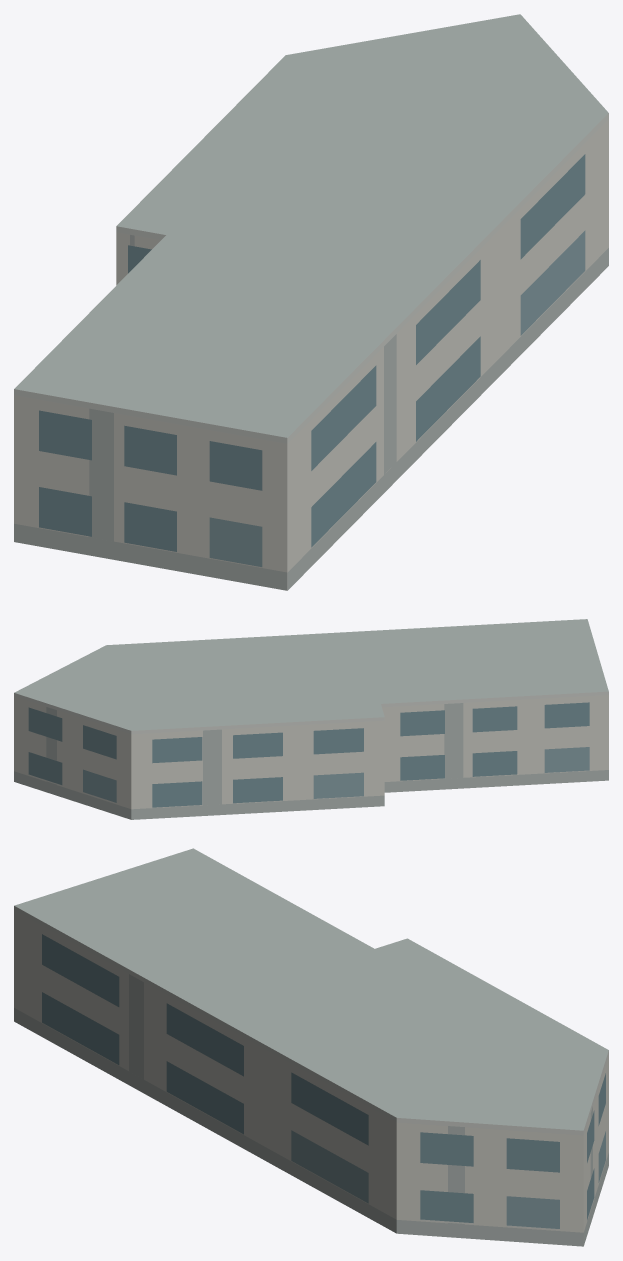
File: survey-upis-33045031.glb
3 views of the same model, one above another, from view 1: azimuth 30°, elevation 25°; view 2: azimuth 150°, elevation 25°; view 3: azimuth 270°, elevation 25° (orthographic). The views are drawn at different scales.
Visible parts, largest first — view 1: survey-upis-33045031.tmp; view 2: survey-upis-33045031.tmp; view 3: survey-upis-33045031.tmp.
Boxes of the visible parts, x1,y1,x2,y2 form: survey-upis-33045031.tmp: (14, 14, 608, 590); survey-upis-33045031.tmp: (14, 619, 608, 819); survey-upis-33045031.tmp: (14, 848, 608, 1246).
Bounding box in the file's own units: 31.9 × 6.1 × 28.4.
